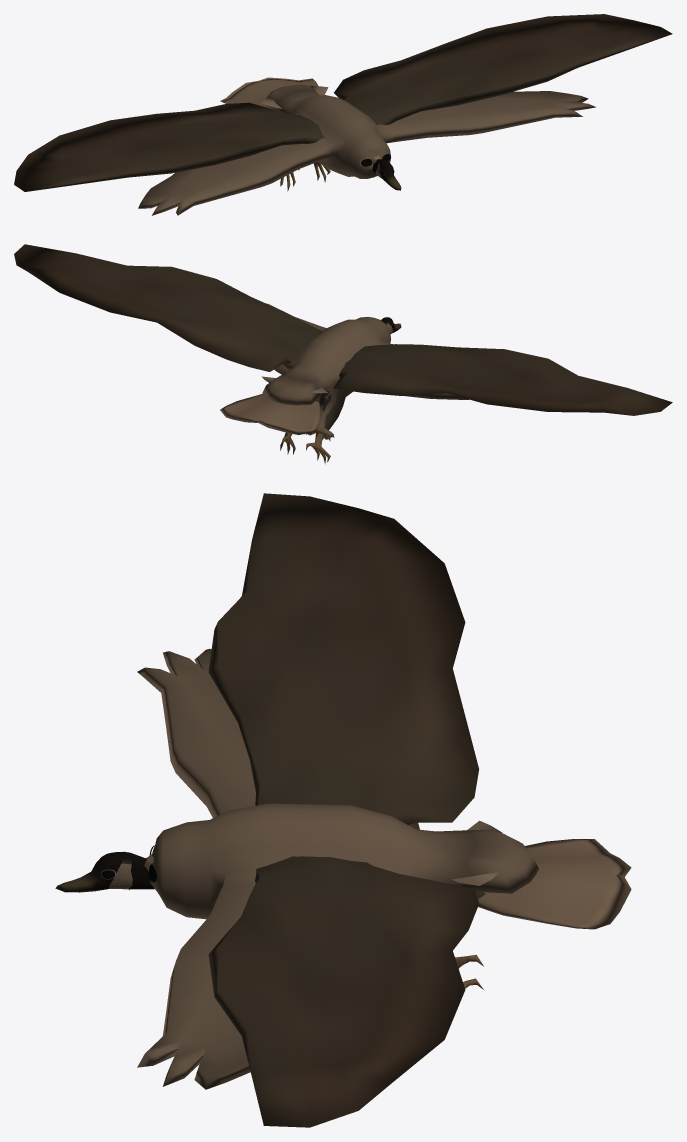
Rendered from flyer-bodies.glb.
3 renders of one model, top to bottom at view 1: azimuth 30°, elevation 25°; view 2: azimuth 150°, elevation 25°; view 3: azimuth 270°, elevation 25°, orthographic. The views are drawn at different scales.
Visible parts, largest first — view 1: base (×3); view 2: base (×2); view 3: base (×3).
Boxes of the visible parts, x1,y1,x2,y2 form: base (×3): [14, 14, 672, 215]; base (×2): [14, 244, 672, 464]; base (×3): [55, 493, 631, 1127].
Size of the model in its own units: 2.75 by 0.4488 by 1.06.
